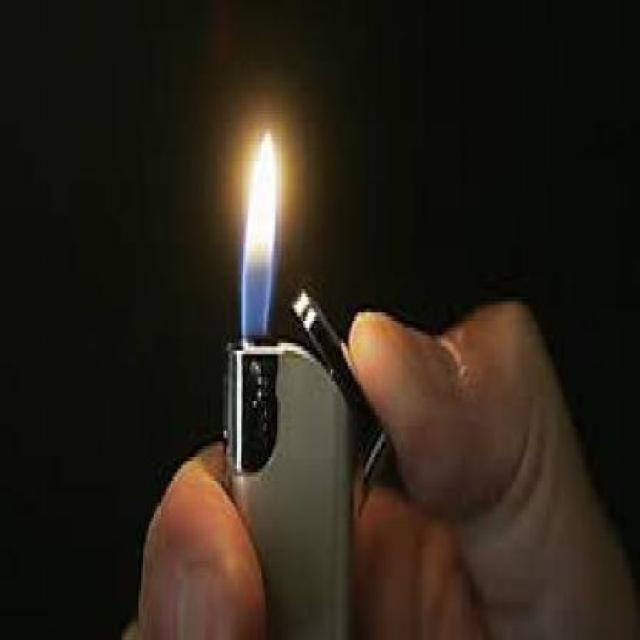Fire: (233, 119, 291, 341)
